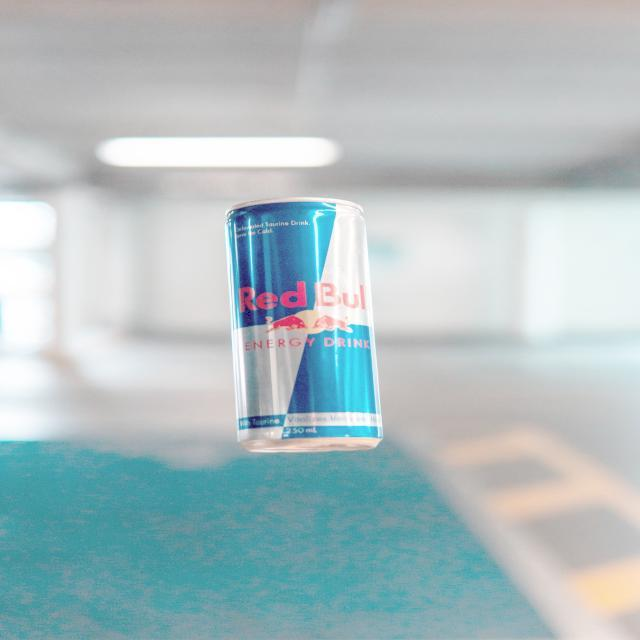can: (156, 130, 454, 515)
